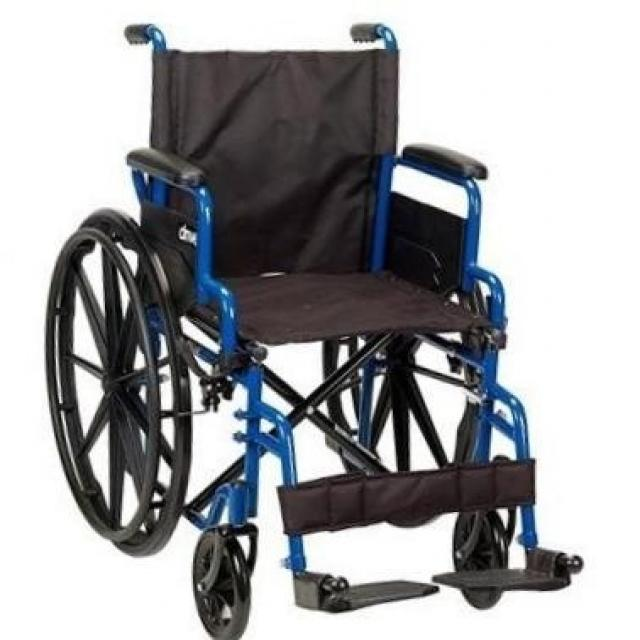wheelchair: (35, 7, 591, 640)
